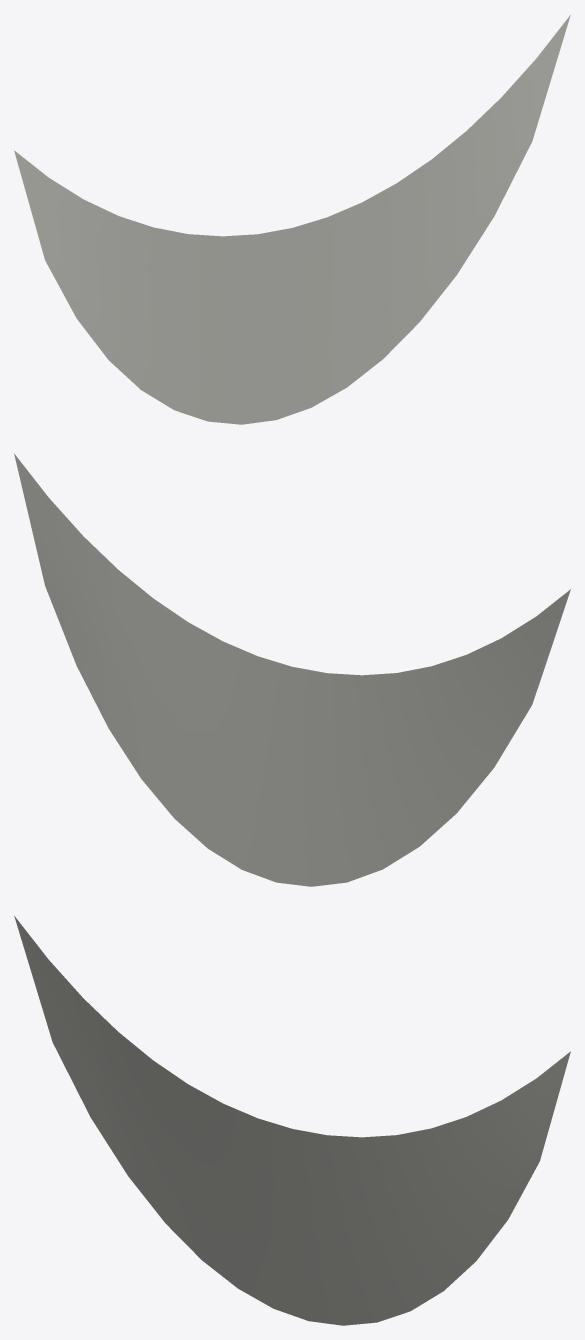
File: cobweb_sag.glb
The picture shows the model from 3 angles, top to bottom: view 1: azimuth 30°, elevation 25°; view 2: azimuth 150°, elevation 25°; view 3: azimuth 330°, elevation 25°; orthographic projection.
Visible parts, largest first — view 1: cobweb_sag; view 2: cobweb_sag; view 3: cobweb_sag.
Part boxes in pixels (x1,y1,x2,y2): cobweb_sag: (14,15,570,424); cobweb_sag: (14,453,570,886); cobweb_sag: (14,916,570,1325).
Bounding box in the file's own units: 1 × 0.6 × 0.05.
1 material, 1 textured.
